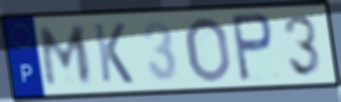3: (281, 14, 323, 77), (141, 19, 179, 84)
K: (91, 22, 136, 86)
M: (38, 23, 94, 88)
O: (184, 15, 233, 84)
P: (228, 12, 276, 84)
